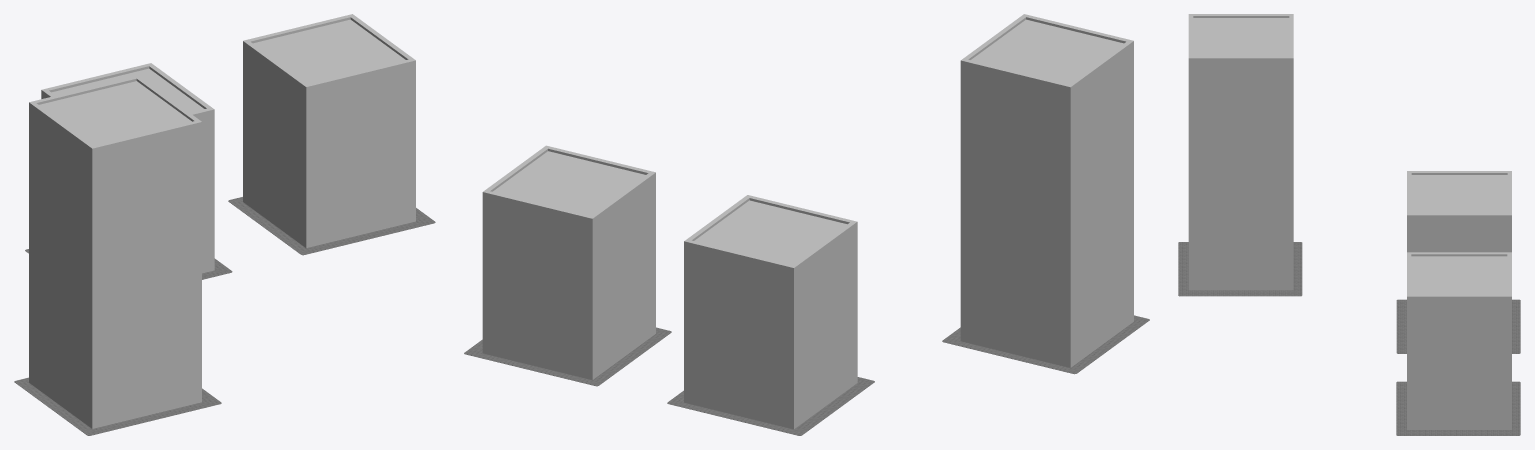
The model's file is Buildings.FBX.
3 renders of one model, left to right at view 1: azimuth 30°, elevation 25°; view 2: azimuth 150°, elevation 25°; view 3: azimuth 270°, elevation 25°, orthographic. The views are drawn at different scales.
Visible parts, largest first — view 1: Building 3, Building 2, Building 1; view 2: Building 3, Building 1, Building 2; view 3: Building 3, Building 2, Building 1.
Boxes of the visible parts, left/top/right/bottom form: Building 3: left=14, top=75, right=221, bottom=435; Building 2: left=228, top=14, right=435, bottom=255; Building 1: left=25, top=63, right=232, bottom=279; Building 3: left=942, top=14, right=1149, bottom=374; Building 1: left=667, top=195, right=874, bottom=435; Building 2: left=464, top=145, right=671, bottom=386; Building 3: left=1178, top=14, right=1302, bottom=296; Building 2: left=1396, top=252, right=1520, bottom=435; Building 1: left=1396, top=171, right=1520, bottom=353.
Size of the model in its own units: 15301 by 8545 by 11422.
